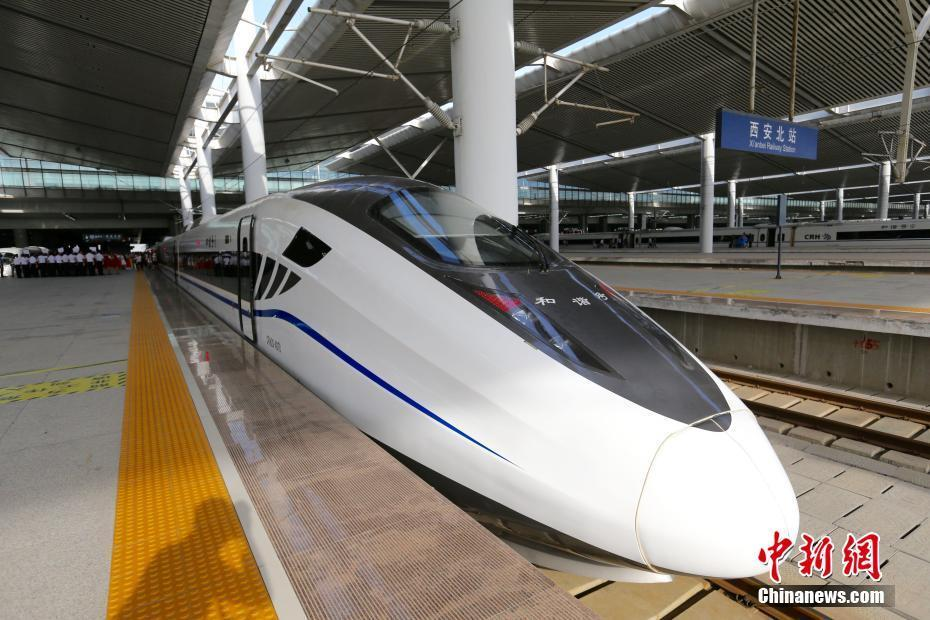hsrw: (152, 175, 798, 583)
